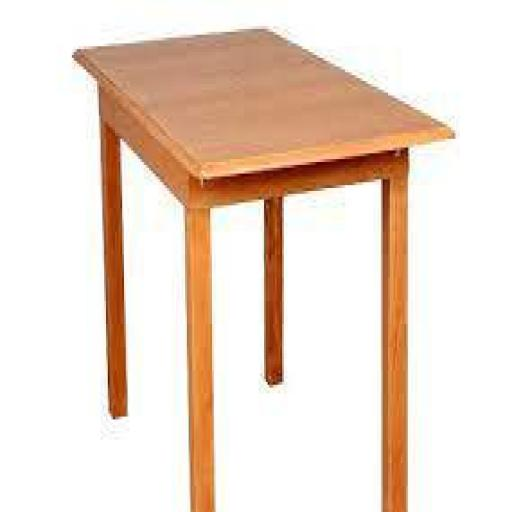table: (60, 4, 459, 470)
